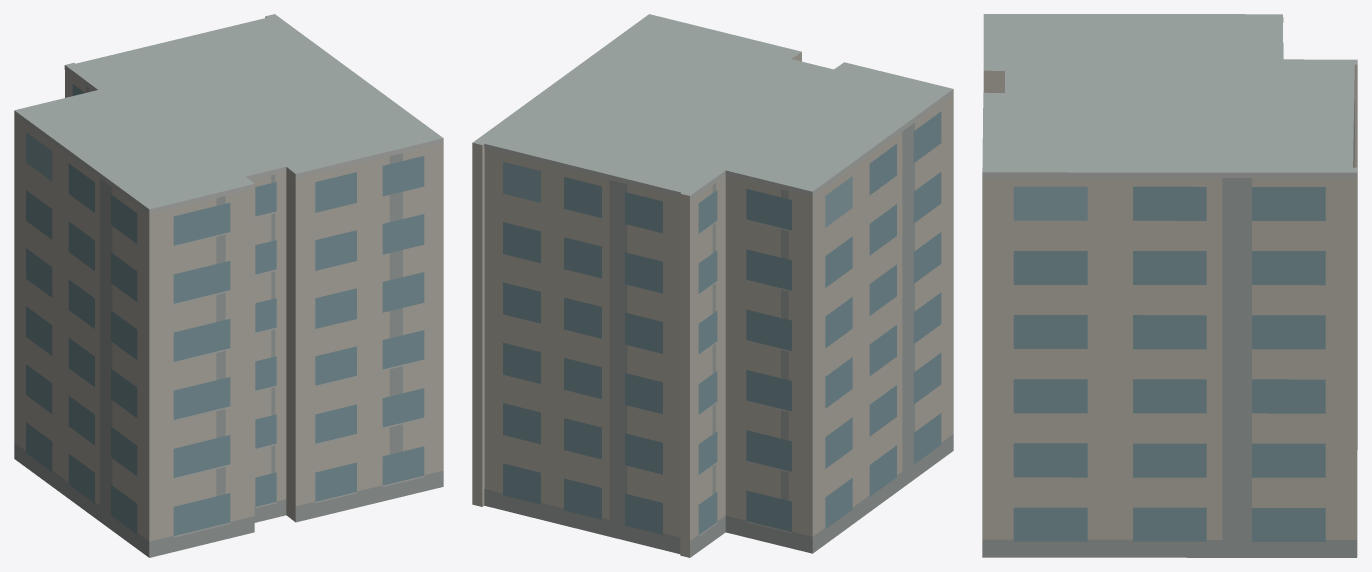
File: survey-upis-33010207.glb
3 views of the same model, side by side, from view 1: azimuth 30°, elevation 25°; view 2: azimuth 150°, elevation 25°; view 3: azimuth 270°, elevation 25° (orthographic). The views are drawn at different scales.
Parts seen in each view (by area): view 1: survey-upis-33010207.tmp; view 2: survey-upis-33010207.tmp; view 3: survey-upis-33010207.tmp.
Boxes of the visible parts, bbox=[...] form: survey-upis-33010207.tmp: bbox=[14, 14, 443, 557]; survey-upis-33010207.tmp: bbox=[472, 14, 953, 557]; survey-upis-33010207.tmp: bbox=[982, 14, 1357, 557].
Size of the model in its own units: 15.13 by 17.1 by 15.11.
